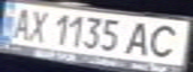1: (45, 11, 72, 47), (66, 12, 84, 48)
3: (81, 15, 106, 51)
5: (100, 16, 127, 54)
A: (121, 20, 157, 57), (3, 4, 36, 40)
C: (142, 21, 190, 60)
X: (21, 7, 54, 43)
